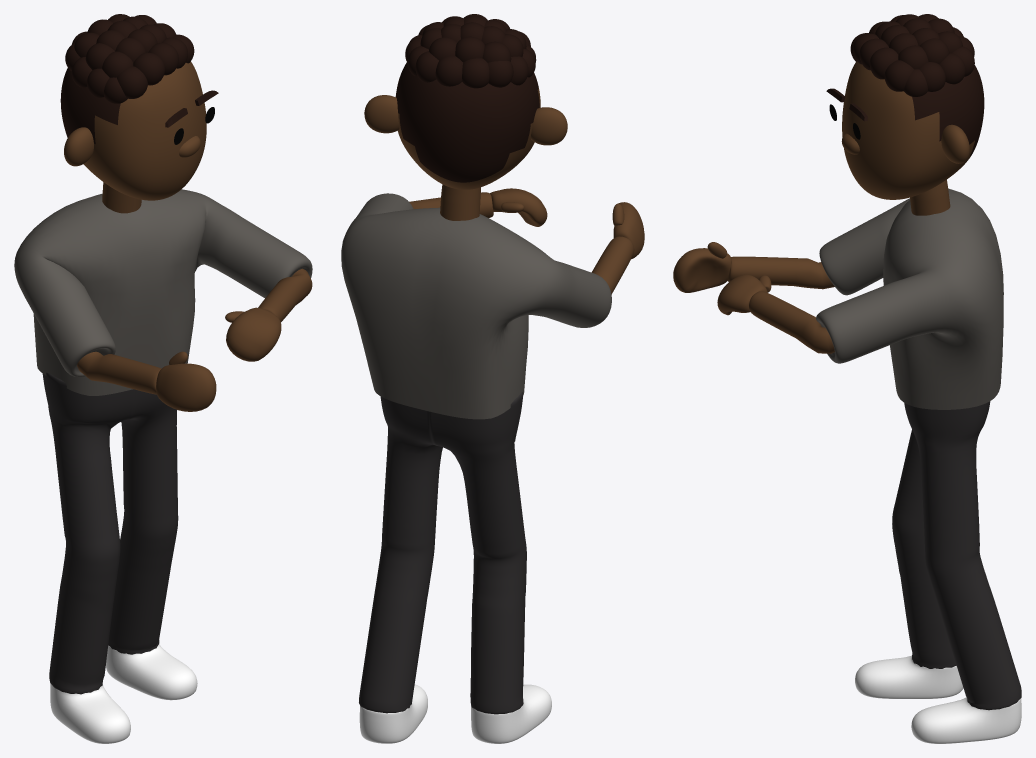
The model's file is AdamShopping.fbx.
3 views of the same model, side by side, from view 1: azimuth 30°, elevation 25°; view 2: azimuth 150°, elevation 25°; view 3: azimuth 270°, elevation 25° (orthographic).
Parts seen in each view (by area): view 1: black-teen-shirt, black-teen-pants, black-teen-head, Cube.017, black-teen-shoes, black-teen-hands, black-teen-arms, black-teen-ears, black-teen-neck; view 2: black-teen-shirt, black-teen-pants, black-teen-head, Cube.017, black-teen-shoes, black-teen-hands, black-teen-ears, black-teen-arms, black-teen-neck; view 3: black-teen-shirt, black-teen-pants, black-teen-head, black-teen-shoes, Cube.017, black-teen-arms, black-teen-hands, black-teen-neck, black-teen-ears.
Part boxes in pixels (x1=…): black-teen-shirt: x1=14, y1=189, x2=312, y2=395; black-teen-pants: x1=42, y1=372, x2=178, y2=694; black-teen-head: x1=60, y1=61, x2=206, y2=200; Cube.017: x1=65, y1=14, x2=194, y2=103; black-teen-shoes: x1=50, y1=644, x2=197, y2=743; black-teen-hands: x1=156, y1=307, x2=281, y2=411; black-teen-arms: x1=77, y1=268, x2=312, y2=394; black-teen-ears: x1=64, y1=127, x2=93, y2=166; black-teen-neck: x1=102, y1=182, x2=141, y2=213; black-teen-shirt: x1=341, y1=193, x2=611, y2=419; black-teen-pants: x1=359, y1=392, x2=526, y2=714; black-teen-head: x1=395, y1=62, x2=540, y2=189; Cube.017: x1=405, y1=14, x2=536, y2=88; black-teen-shoes: x1=359, y1=684, x2=551, y2=743; black-teen-hands: x1=490, y1=188, x2=644, y2=259; black-teen-ears: x1=364, y1=95, x2=567, y2=145; black-teen-arms: x1=409, y1=192, x2=634, y2=294; black-teen-neck: x1=440, y1=184, x2=480, y2=220; black-teen-shirt: x1=816, y1=188, x2=1003, y2=409; black-teen-pants: x1=892, y1=401, x2=1021, y2=710; black-teen-head: x1=842, y1=61, x2=984, y2=199; black-teen-shoes: x1=855, y1=655, x2=1021, y2=743; Cube.017: x1=850, y1=14, x2=974, y2=96; black-teen-arms: x1=727, y1=256, x2=834, y2=353; black-teen-hands: x1=673, y1=242, x2=771, y2=315; black-teen-neck: x1=910, y1=179, x2=950, y2=215; black-teen-ears: x1=941, y1=124, x2=969, y2=163.
Size of the model in its own units: 229 by 612 by 282.
